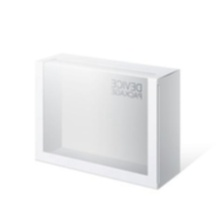plastic_box: (28, 46, 188, 194)
